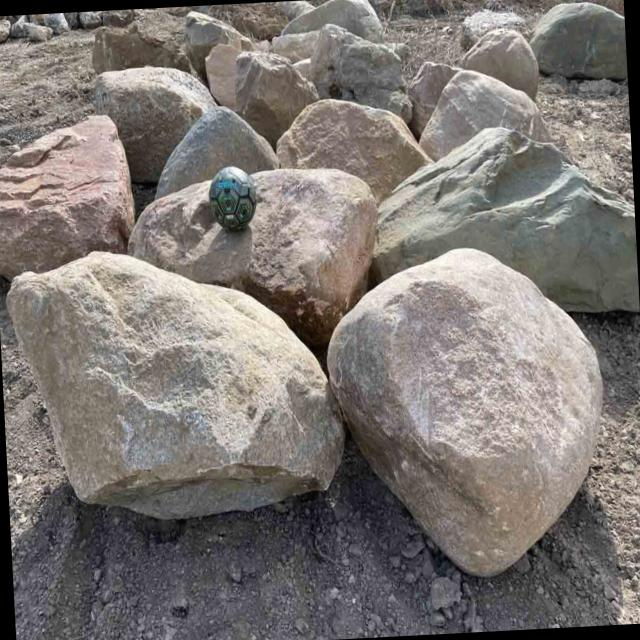rocks: (0, 0, 640, 575), (0, 11, 102, 43)
stone: (7, 252, 344, 519), (327, 249, 602, 575), (370, 128, 640, 312), (128, 169, 377, 348), (0, 116, 135, 279), (276, 99, 432, 204), (93, 66, 216, 184), (419, 70, 552, 160), (156, 106, 279, 198), (307, 24, 408, 114), (233, 52, 320, 150), (530, 2, 628, 81), (92, 11, 193, 74), (461, 29, 539, 99), (282, 0, 384, 42), (206, 43, 243, 108)
